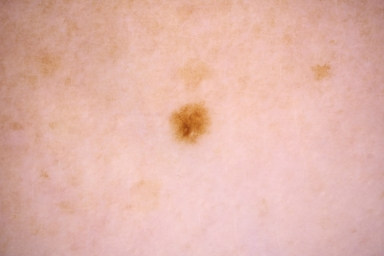melanoma: (169, 101, 208, 143)
